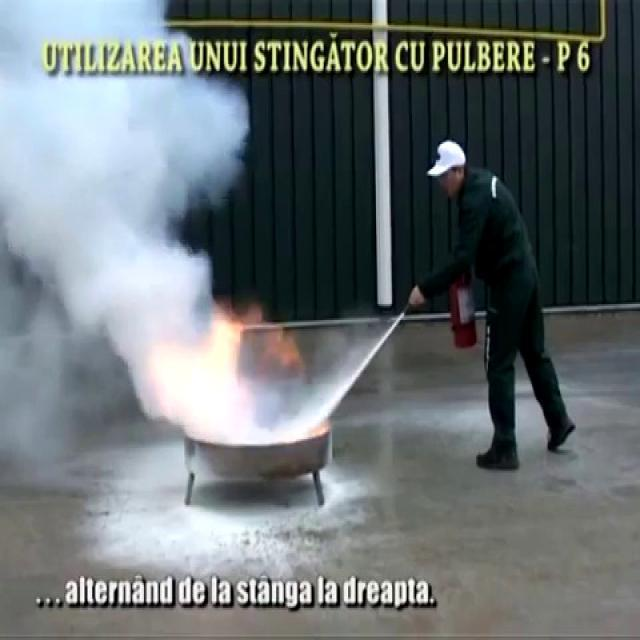Smoke: (0, 0, 298, 446)
